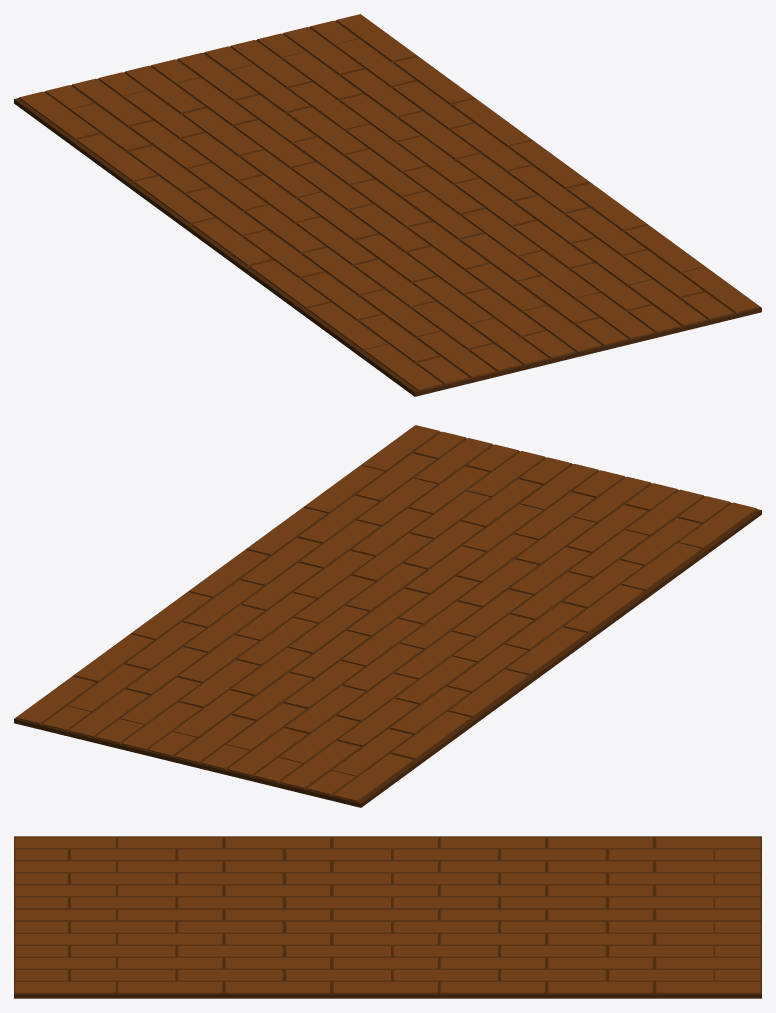
The model's file is M_ParquetBoisPlusClair.fbx.
3 renders of one model, top to bottom at view 1: azimuth 30°, elevation 25°; view 2: azimuth 150°, elevation 25°; view 3: azimuth 270°, elevation 25°, orthographic. The views are drawn at different scales.
Parts seen in each view (by area): view 1: Cube.091; view 2: Cube.091; view 3: Cube.091.
Boxes of the visible parts, bbox=[...] form: Cube.091: bbox=[14, 14, 761, 396]; Cube.091: bbox=[14, 425, 761, 807]; Cube.091: bbox=[14, 836, 761, 998].
Bounding box in the file's own units: 2000 × 30.94 × 4000.
